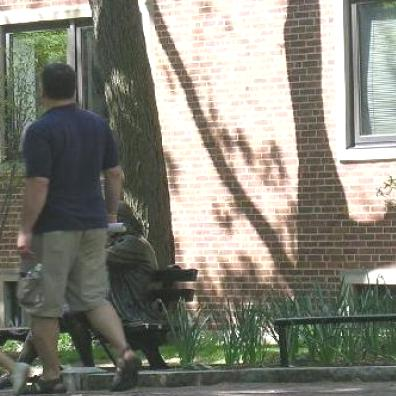ped: (19, 62, 143, 394)
